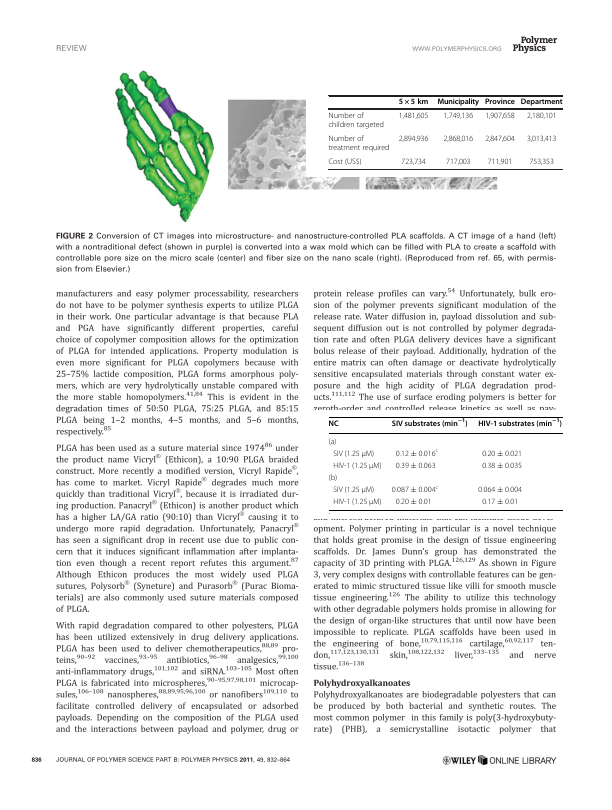borderless: (327, 415, 563, 510), (327, 94, 563, 169)
cell: (328, 134, 390, 152), (328, 111, 385, 129), (477, 418, 563, 428), (391, 418, 469, 428), (391, 484, 439, 495), (332, 461, 383, 471), (395, 448, 439, 459), (332, 498, 383, 507), (332, 449, 375, 459), (481, 449, 523, 459), (395, 461, 437, 471), (481, 461, 523, 471), (477, 486, 523, 495), (436, 98, 480, 107), (332, 486, 375, 495), (520, 98, 563, 107), (395, 498, 433, 507), (481, 498, 519, 507), (442, 111, 474, 121), (484, 111, 516, 121), (328, 157, 363, 166), (398, 111, 429, 121), (526, 111, 557, 121), (484, 98, 516, 107), (442, 134, 474, 143), (484, 134, 516, 143), (398, 98, 429, 107), (398, 134, 429, 143), (526, 134, 557, 143), (400, 157, 427, 166), (528, 157, 555, 166), (445, 157, 471, 166), (487, 157, 513, 166), (328, 419, 340, 428), (328, 437, 337, 447), (328, 474, 338, 483)
